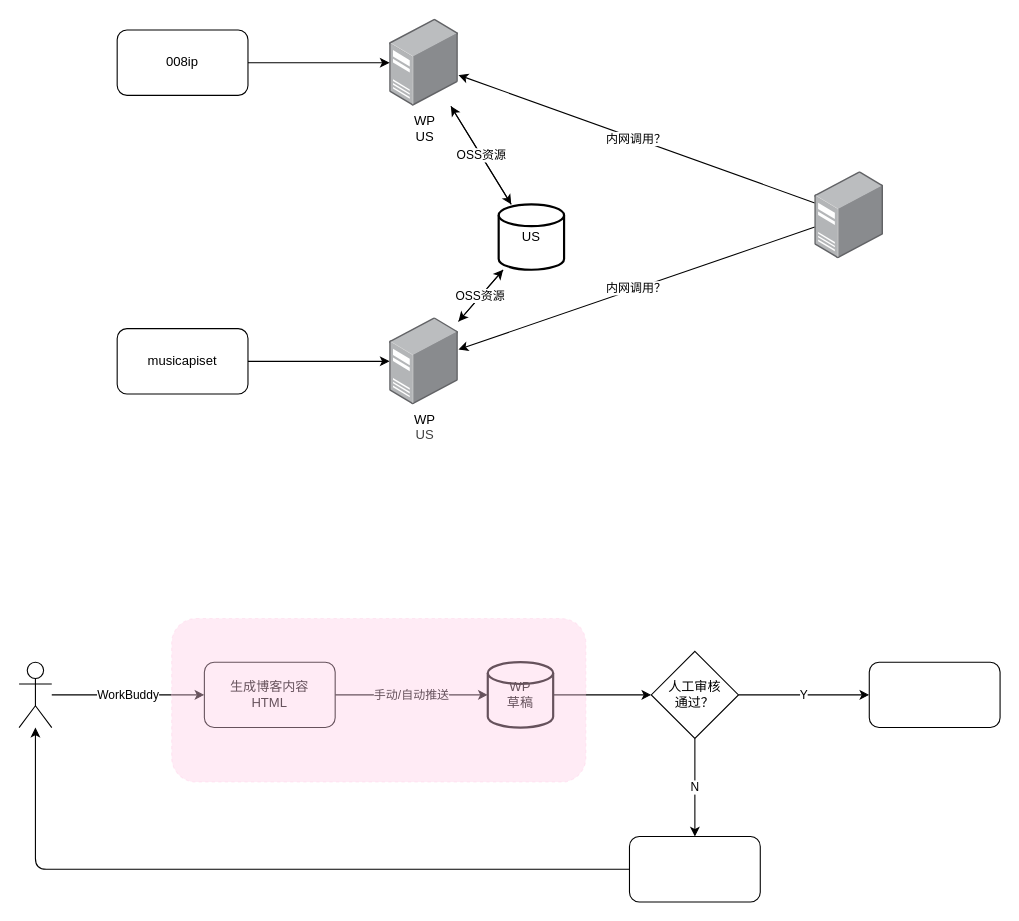
Some shapes in this 1019 by 921 pixel diagram are drawn without their labels. Each missing label, with the box of its shape:
APISet-API US: (814, 171, 883, 258)
手动发布: (868, 661, 1000, 728)
触发通知到 飞书: (628, 835, 760, 902)
运营: (18, 661, 52, 728)
